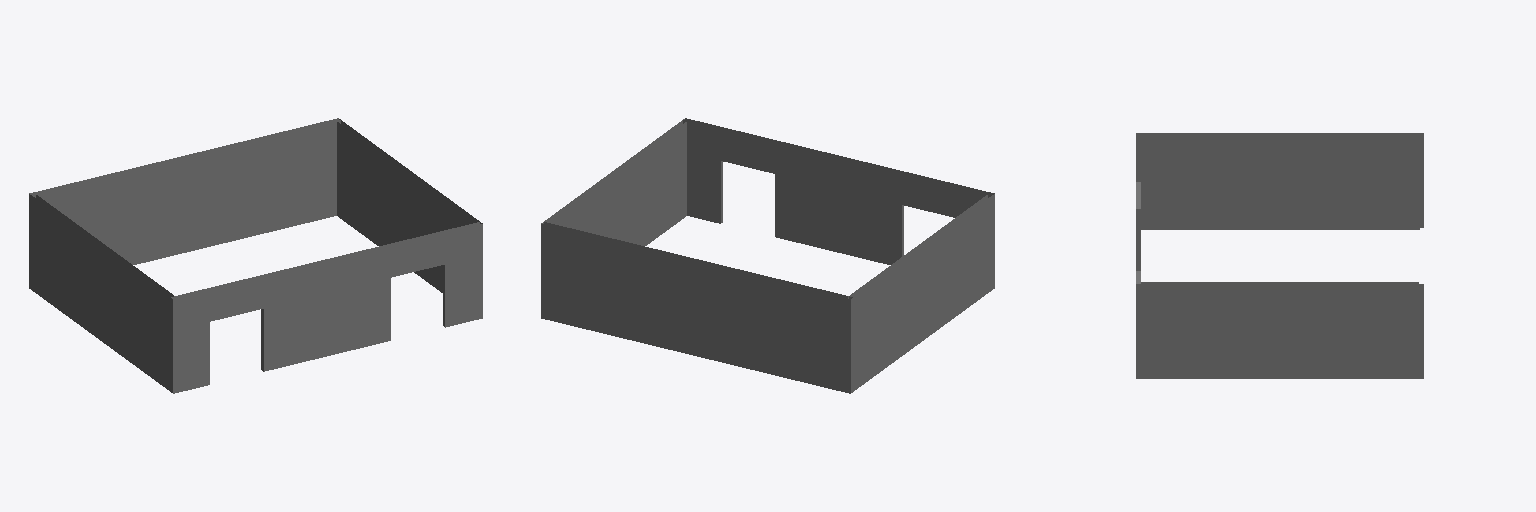
File: test_wall.obj
3 renders of one model, left to right at view 1: azimuth 30°, elevation 25°; view 2: azimuth 150°, elevation 25°; view 3: azimuth 270°, elevation 25°, orthographic.
Parts seen in each view (by area): view 1: wall.021; view 2: wall.021; view 3: wall.021.
Part boxes in pixels (left/top/right/bottom): wall.021: left=29, top=118, right=482, bottom=393; wall.021: left=541, top=118, right=994, bottom=393; wall.021: left=1136, top=133, right=1423, bottom=378.
Size of the model in its own units: 113 by 33 by 91.03.